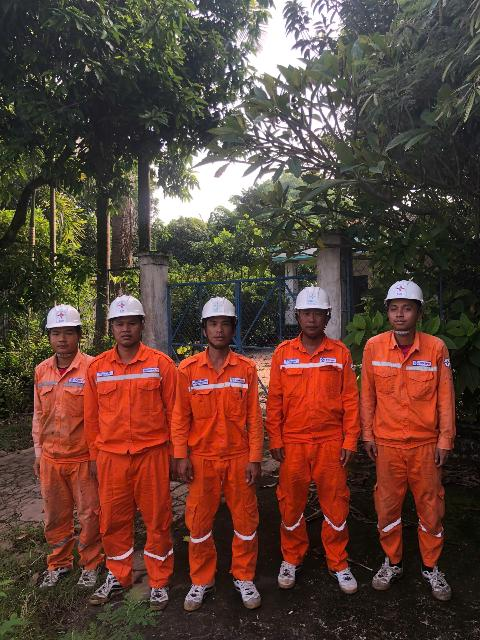helmet: (101, 287, 152, 328), (374, 277, 432, 305), (205, 294, 249, 326), (41, 305, 89, 333), (296, 289, 336, 313)
shoes: (228, 572, 276, 616), (267, 550, 309, 591), (87, 564, 124, 609), (33, 560, 78, 593), (423, 567, 460, 605), (144, 575, 175, 615), (180, 578, 217, 611), (374, 555, 404, 590), (333, 566, 361, 596), (72, 560, 97, 591)
